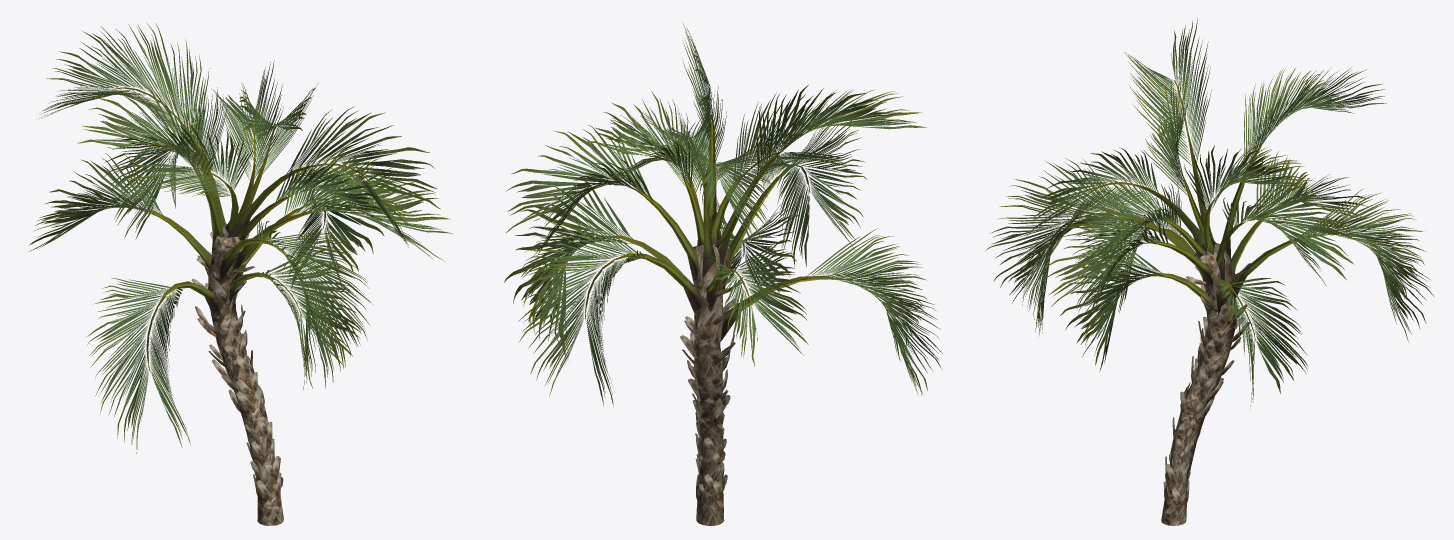
Rendered from curly_palm.glb.
3 views of the same model, side by side, from view 1: azimuth 30°, elevation 25°; view 2: azimuth 150°, elevation 25°; view 3: azimuth 270°, elevation 25° (orthographic). The views are drawn at different scales.
Visible parts, largest first — view 1: Tree_1, Tree_3, Tree_0, Tree_2; view 2: Tree_1, Tree_3, Tree_0, Tree_2; view 3: Tree_1, Tree_3, Tree_0, Tree_2.
Part boxes in pixels (x1,y1,x2,y2): Tree_1: (28, 23, 452, 453); Tree_3: (140, 117, 320, 317); Tree_0: (208, 223, 283, 525); Tree_2: (191, 232, 283, 502); Tree_1: (504, 23, 942, 406); Tree_3: (605, 114, 839, 341); Tree_0: (693, 244, 729, 525); Tree_2: (680, 277, 743, 505); Tree_1: (985, 18, 1434, 409); Tree_3: (1096, 134, 1326, 319); Tree_0: (1161, 243, 1237, 525); Tree_2: (1163, 263, 1250, 506).
Bounding box in the file's own units: 1.69 × 2.01 × 1.92.
Materials: 4 (4 with a texture image).
